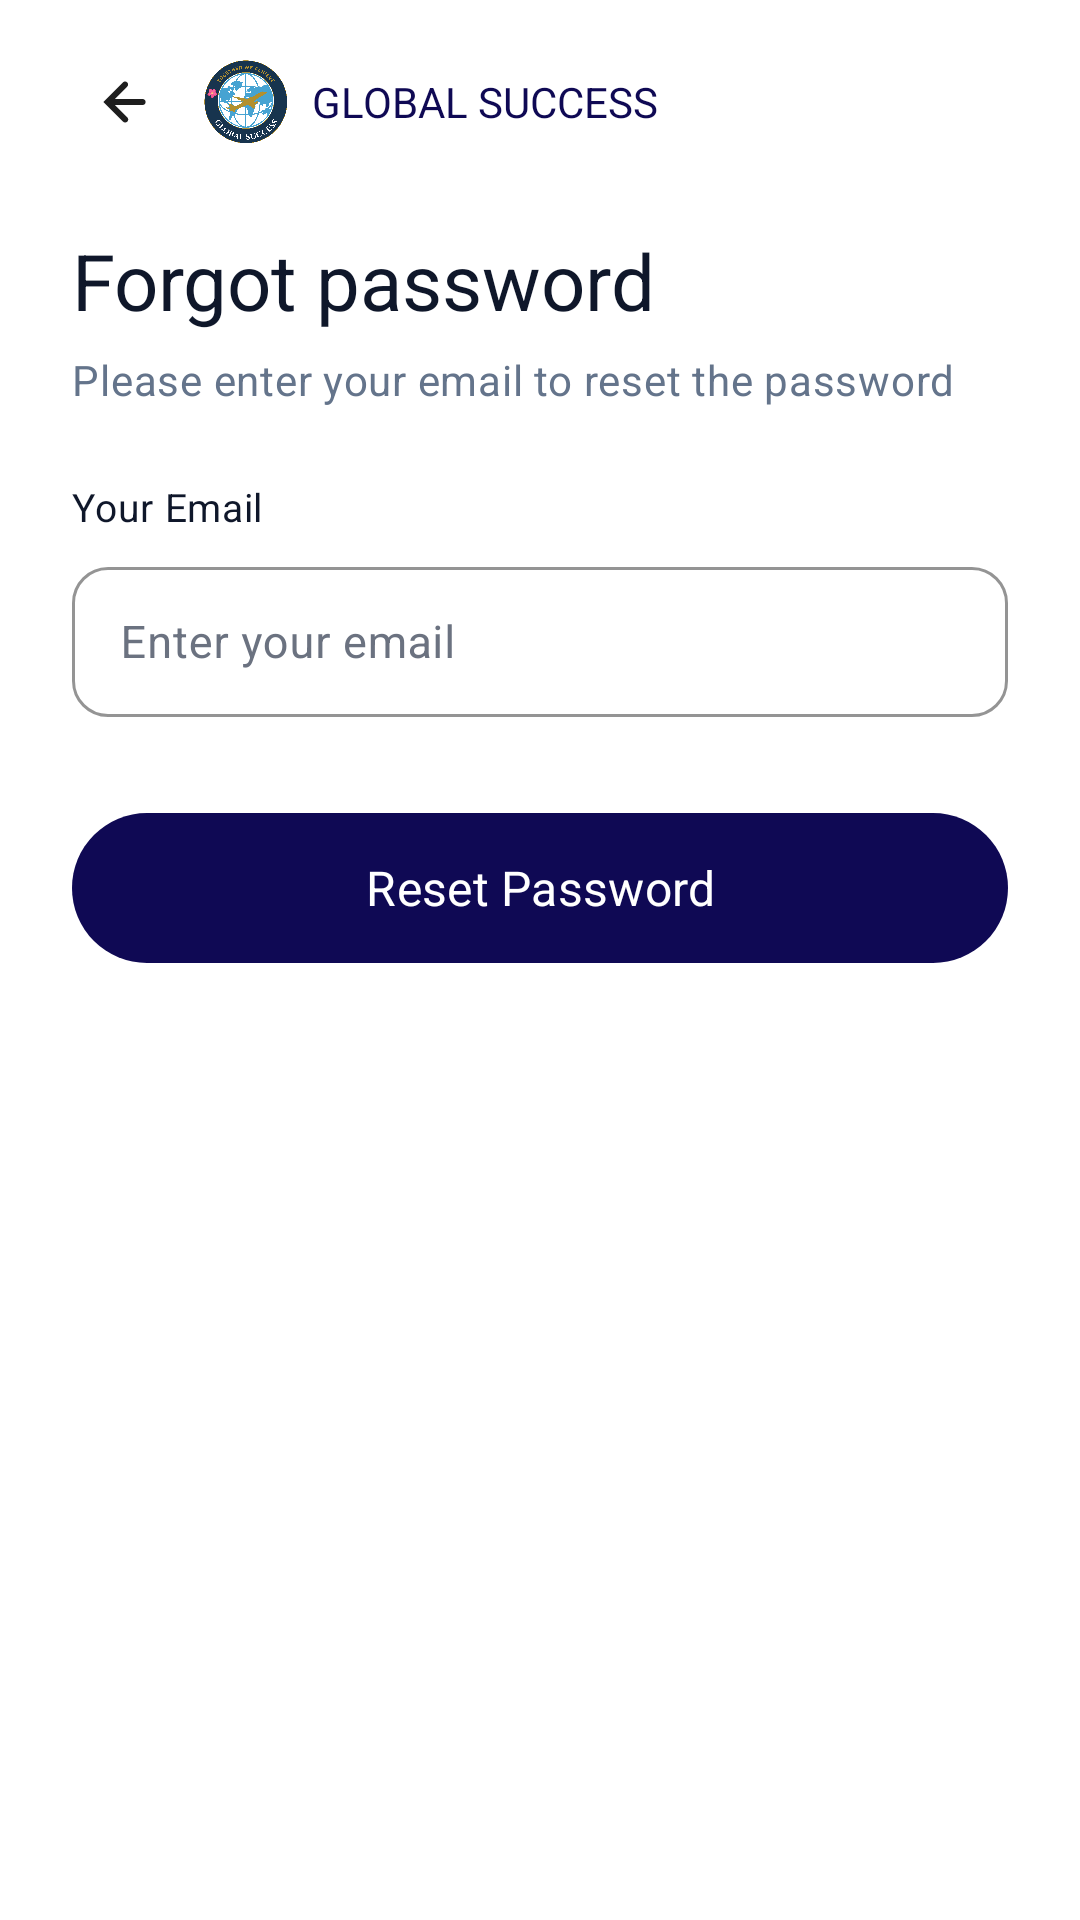

Screen size 1080px x 1920px. Icon name, then its center in pixels as point (x, y):
Back button: point (124, 102)
